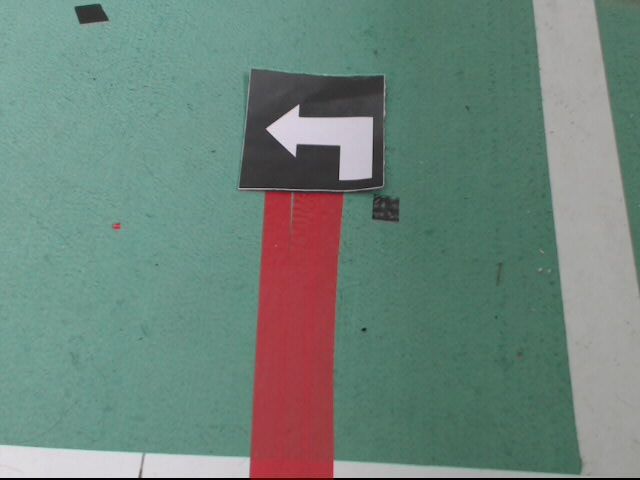left: (238, 67, 391, 192)
